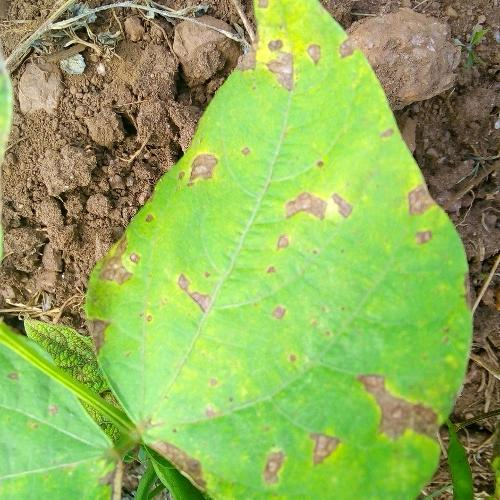hawar: (350, 370, 464, 459), (235, 28, 359, 96), (245, 427, 344, 500), (271, 182, 361, 244), (97, 206, 152, 298), (176, 136, 251, 198), (175, 255, 232, 332), (149, 434, 221, 481), (401, 176, 440, 258), (86, 311, 121, 355), (268, 300, 294, 326), (374, 125, 401, 145)
mozaik: (146, 270, 417, 425)
